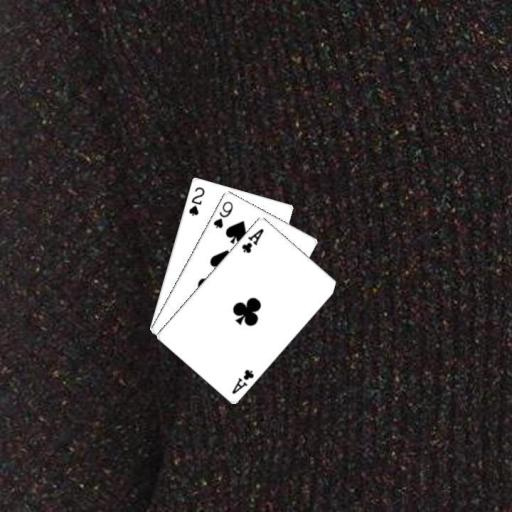2S: (186, 184, 206, 218)
9S: (210, 198, 234, 230)
AC: (238, 225, 265, 255), (229, 366, 256, 396)
